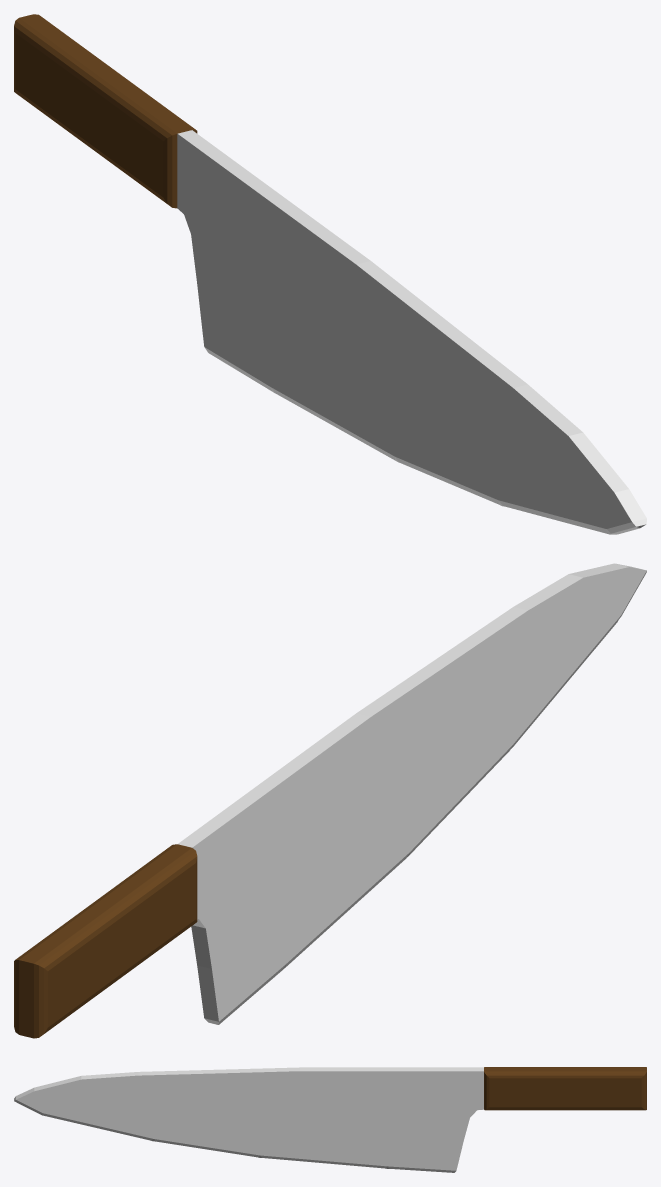
The model's file is Knife.fbx.
The picture shows the model from 3 angles, top to bottom: view 1: azimuth 30°, elevation 25°; view 2: azimuth 150°, elevation 25°; view 3: azimuth 270°, elevation 25°; orthographic projection. The views are drawn at different scales.
Visible parts, largest first — view 1: Knife; view 2: Knife; view 3: Knife.
Part boxes in pixels (x1=…): Knife: x1=14, y1=14, x2=646, y2=534; Knife: x1=14, y1=563, x2=646, y2=1038; Knife: x1=14, y1=1067, x2=646, y2=1172.
Bounding box in the file's own units: 1.77 × 10.44 × 57.97.
Materials: 1 (1 with a texture image).
